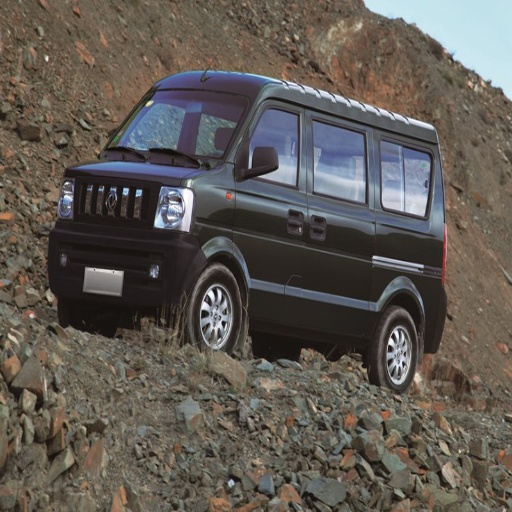back_glass: (108, 89, 198, 163)
back_left_door: (305, 106, 431, 302)
front_bumper: (53, 208, 178, 279)
front_glass: (200, 92, 249, 158)
front_left_door: (235, 95, 316, 323)
tailgate: (74, 150, 176, 218)
trunk: (351, 262, 415, 315)
